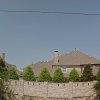Chimney: (46, 46, 66, 68)
